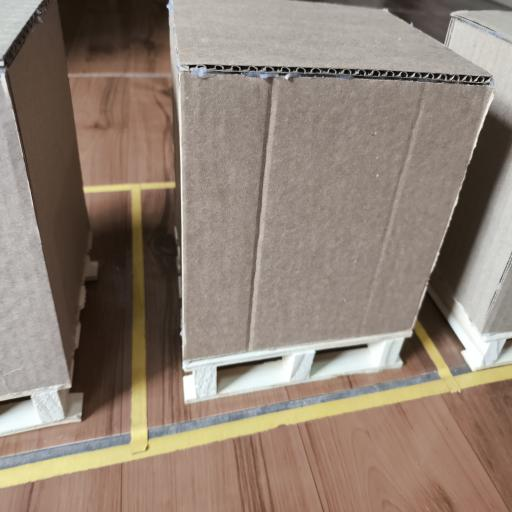pallet: (183, 332, 411, 403), (428, 275, 511, 371), (0, 387, 83, 436), (0, 389, 83, 436)
